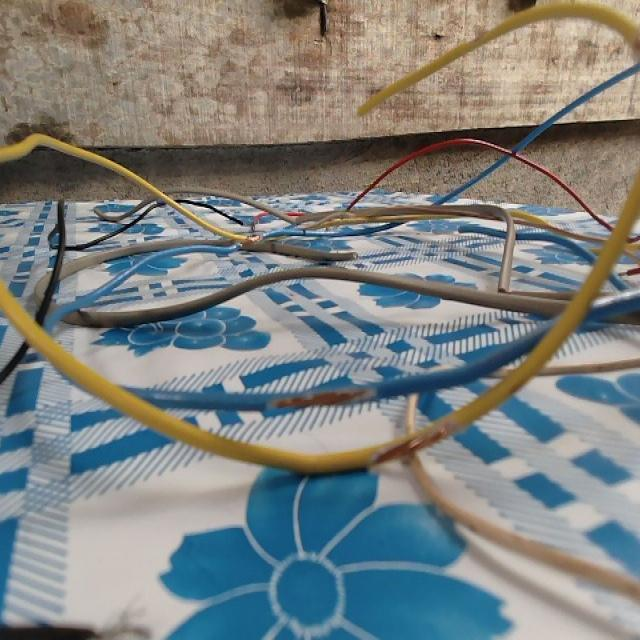-: (370, 420, 456, 465), (265, 380, 378, 411), (242, 229, 266, 251), (348, 247, 362, 265)
